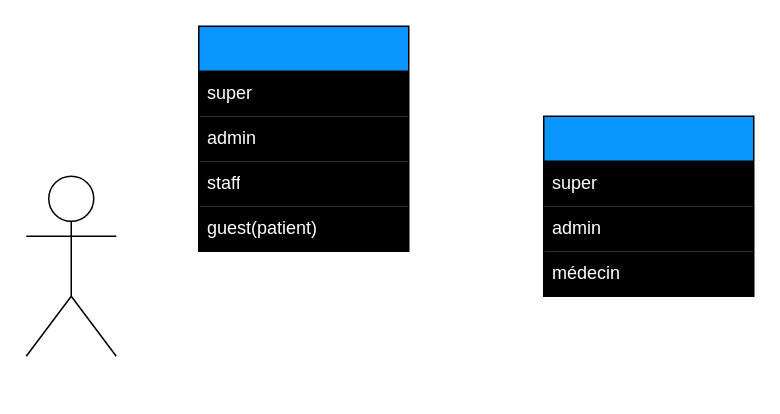
Some shapes in this 780 by 414 pixel diagram are drawn without their labels. The shapes that lost their labels are listed below. From the top down, each one's box as (x1, y1, x2, y2) in pixels, then its label:
(197, 25, 409, 251): roles
(542, 115, 754, 296): services
(25, 175, 116, 356): User
